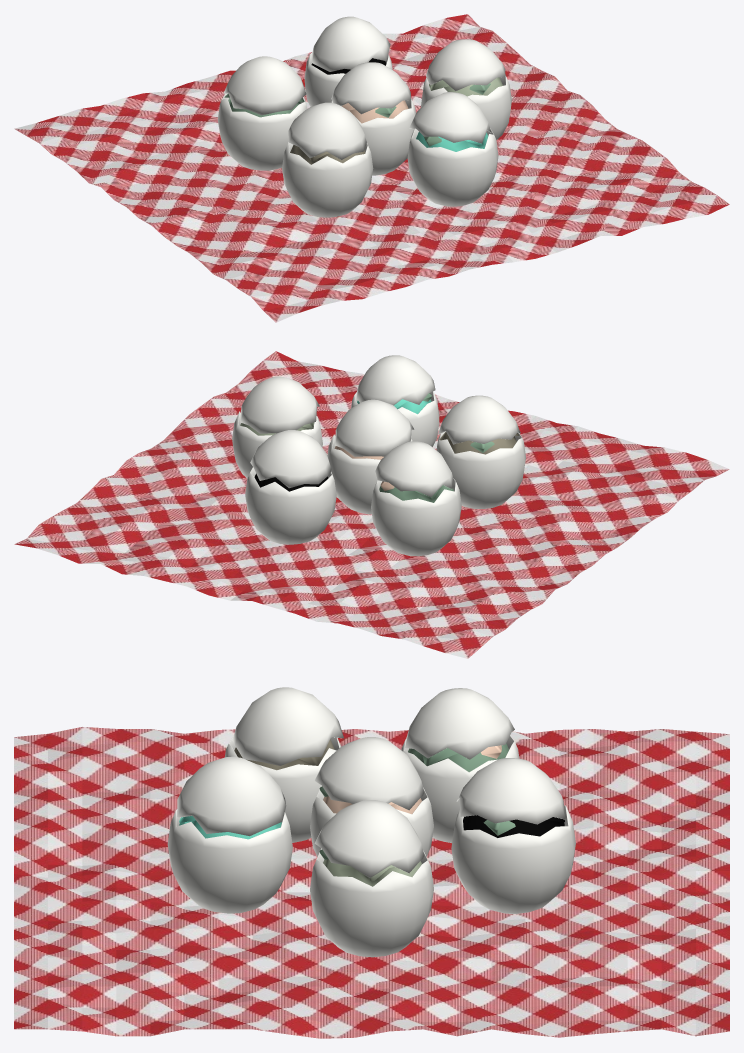
Rendered from bobbing_bird-compressed.glb.
3 views of the same model, one above another, from view 1: azimuth 30°, elevation 25°; view 2: azimuth 150°, elevation 25°; view 3: azimuth 270°, elevation 25° (orthographic). The views are drawn at different scales.
Parts seen in each view (by area): view 1: Plane_11, Bird004_8, Bird005_9, Bird003_7, Bird_1, Bird002_5, Bird001_6; view 2: Plane_11, Bird001_6, Bird003_7, Bird004_8, Bird_1, Bird002_5, Bird005_9; view 3: Plane_11, Bird005_9, Bird002_5, Bird001_6, Bird003_7, Bird004_8, Bird_1.
Part boxes in pixels (box(x1,y1,x2,y2)): Plane_11: box(14, 14, 729, 322); Bird004_8: box(282, 102, 373, 217); Bird005_9: box(407, 92, 498, 206); Bird003_7: box(217, 56, 307, 170); Bird_1: box(331, 62, 415, 175); Bird002_5: box(421, 39, 511, 139); Bird001_6: box(304, 16, 392, 106); Plane_11: box(14, 351, 729, 658); Bird001_6: box(245, 430, 336, 544); Bird003_7: box(371, 441, 461, 556); Bird004_8: box(436, 395, 525, 508); Bird_1: box(327, 399, 414, 514); Bird002_5: box(232, 376, 322, 478); Bird005_9: box(351, 355, 439, 446); Plane_11: box(14, 727, 729, 1038); Bird005_9: box(167, 756, 292, 913); Bird002_5: box(310, 800, 433, 957); Bird001_6: box(451, 758, 575, 913); Bird003_7: box(401, 688, 519, 842); Bird004_8: box(224, 687, 343, 842); Bird_1: box(310, 737, 433, 856).
Bounding box in the file's own units: 11.73 × 2.68 × 11.73.
2 materials, 2 textured.
